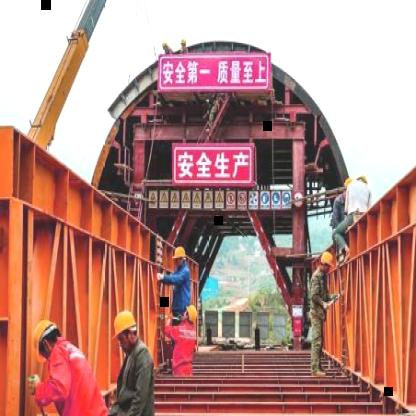helmet: (32, 308, 56, 365), (110, 305, 139, 343), (316, 247, 338, 273), (170, 241, 188, 265), (185, 301, 198, 324)
